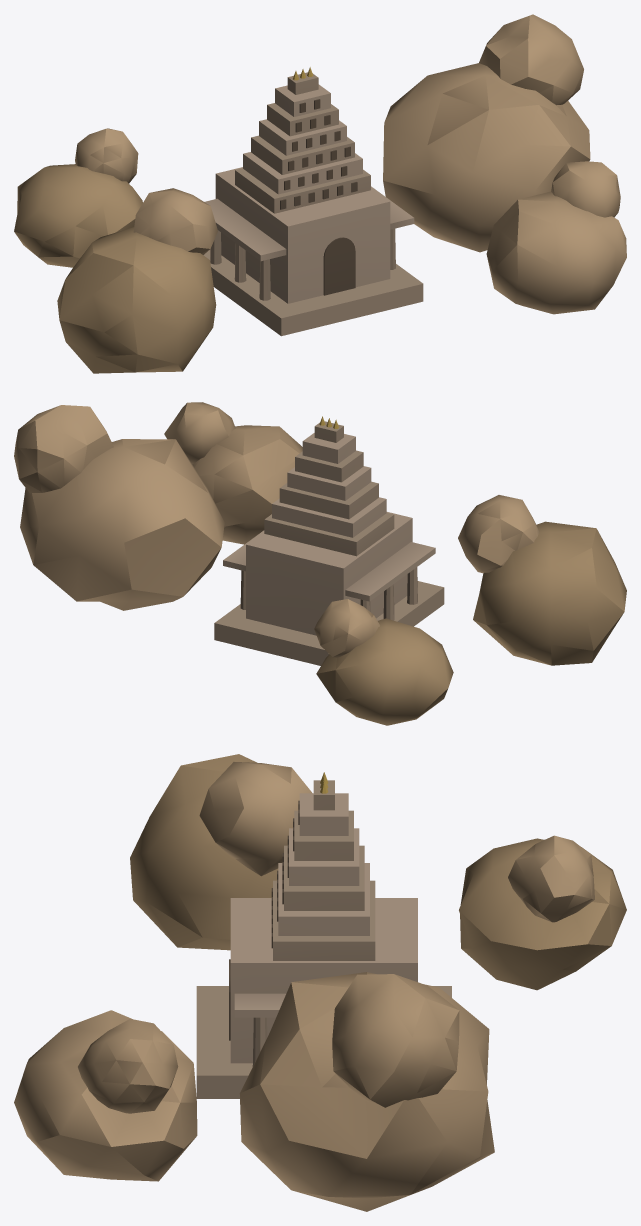
The model's file is lm-hampi.glb.
3 views of the same model, one above another, from view 1: azimuth 30°, elevation 25°; view 2: azimuth 150°, elevation 25°; view 3: azimuth 270°, elevation 25° (orthographic). The views are drawn at different scales.
Bounding box in the file's own units: 20.36 × 8.03 × 14.39.
